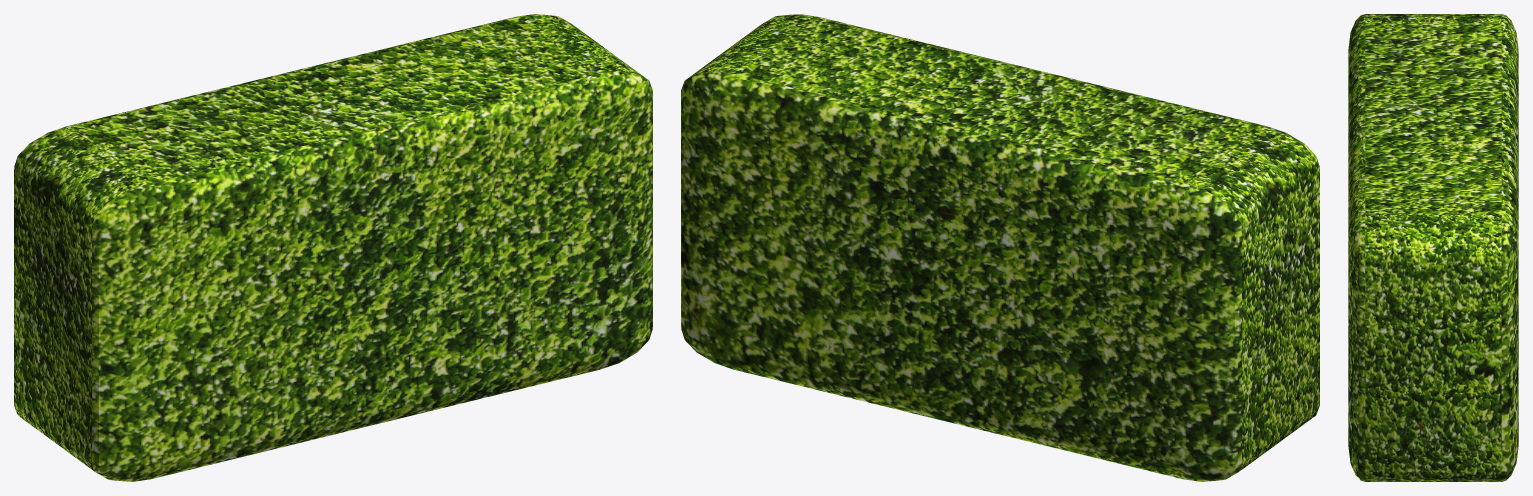
The model's file is hedge.glb.
The picture shows the model from 3 angles, left to right: view 1: azimuth 30°, elevation 25°; view 2: azimuth 150°, elevation 25°; view 3: azimuth 270°, elevation 25°; orthographic projection. The views are drawn at different scales.
Visible parts, largest first — view 1: Roundcube; view 2: Roundcube; view 3: Roundcube.
Boxes of the visible parts, x1,y1,x2,y2 form: Roundcube: (14, 14, 652, 481); Roundcube: (681, 14, 1319, 481); Roundcube: (1348, 14, 1518, 481).
Bounding box in the file's own units: 2 × 1 × 0.6004.
1 material, 1 textured.
